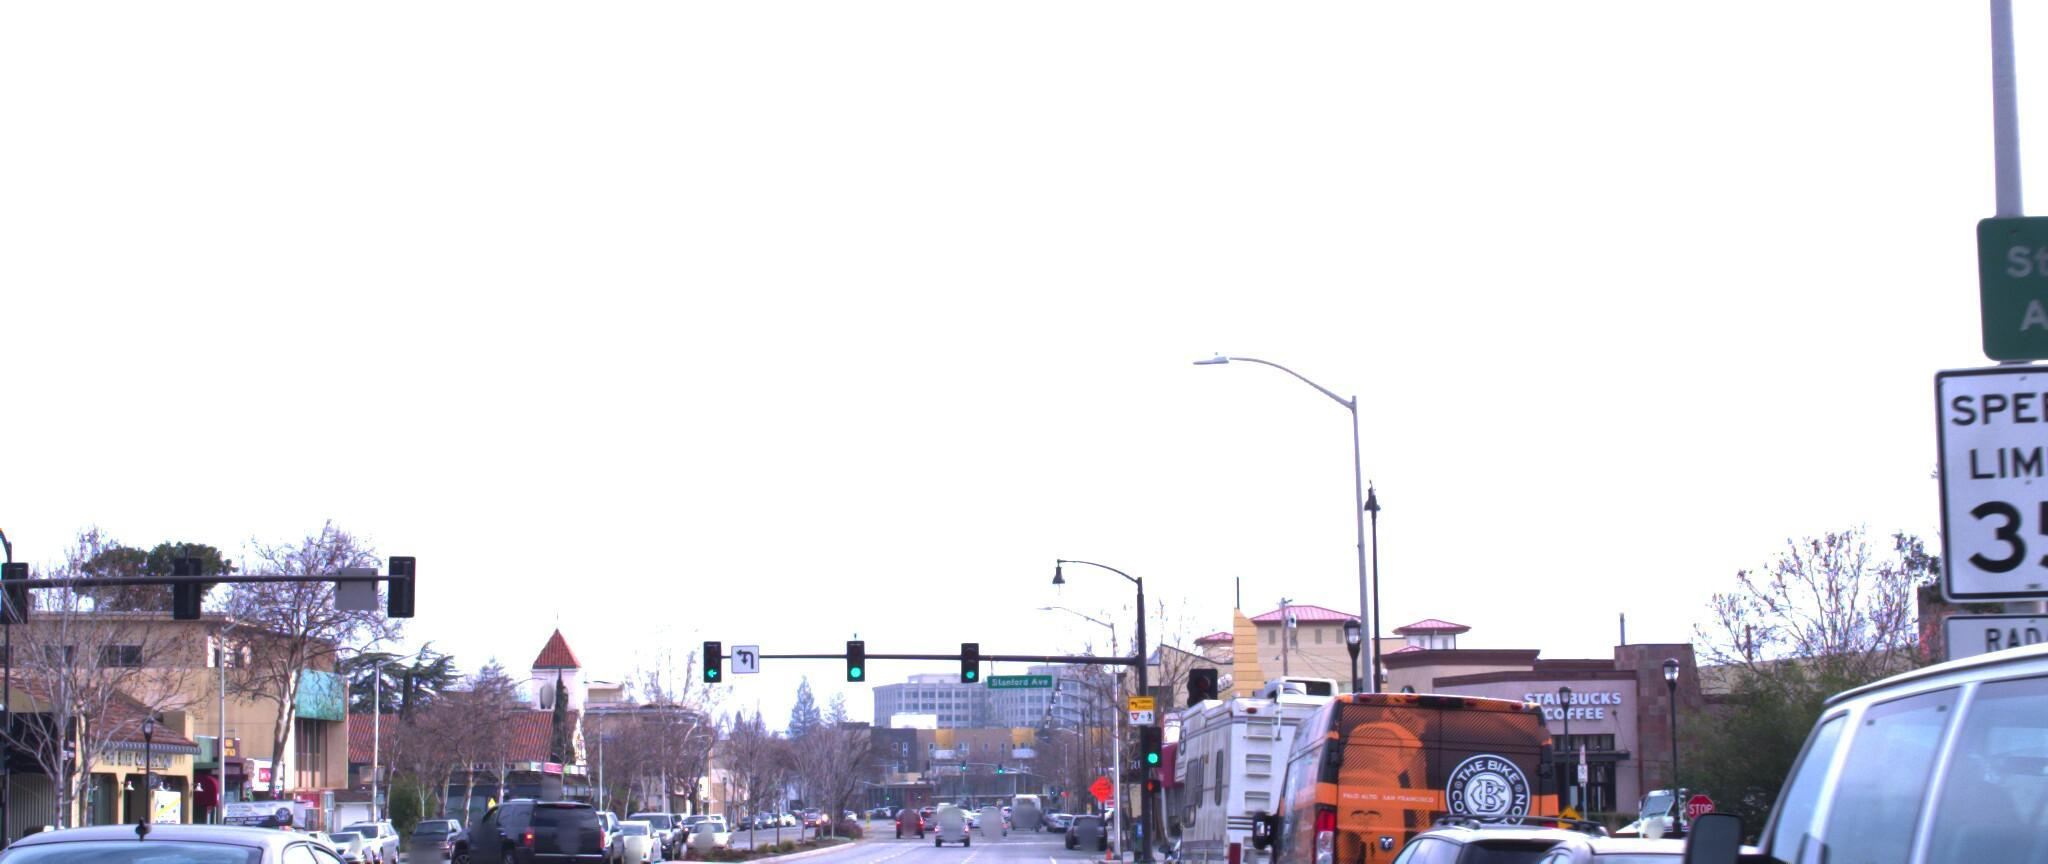car: (1624, 549, 2048, 864), (1240, 660, 1579, 864), (1417, 803, 1946, 864), (0, 796, 460, 864), (1317, 782, 1694, 864), (438, 773, 603, 860)
other_vehicle: (1161, 637, 1481, 864), (1591, 764, 1774, 844)
